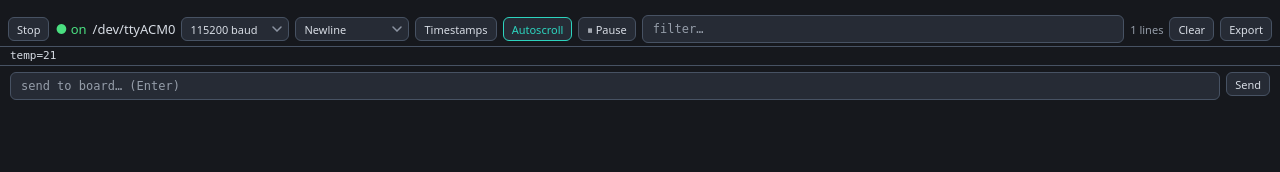
Scenario: SerialMonitor log › says so when the filter matches nothing
The width and height of the screenshot is (1280, 172).
Type "zzz" into the field named "Filter lines" at (883, 29), box top-left (642, 15), bottom-right (1124, 43)
Wait 150 ms
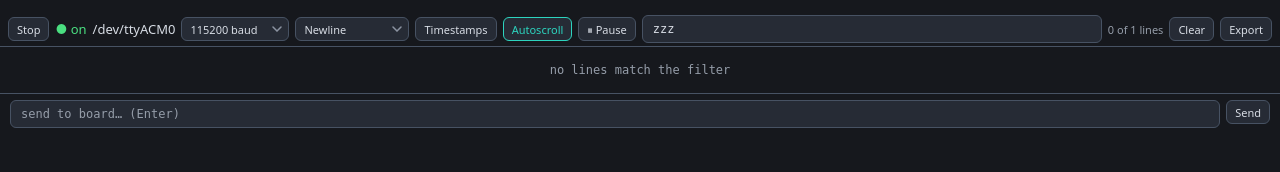
Expected: the text with class "empty-hint" reads "no lines match the filter", top-left (550, 63), bottom-right (730, 77)
